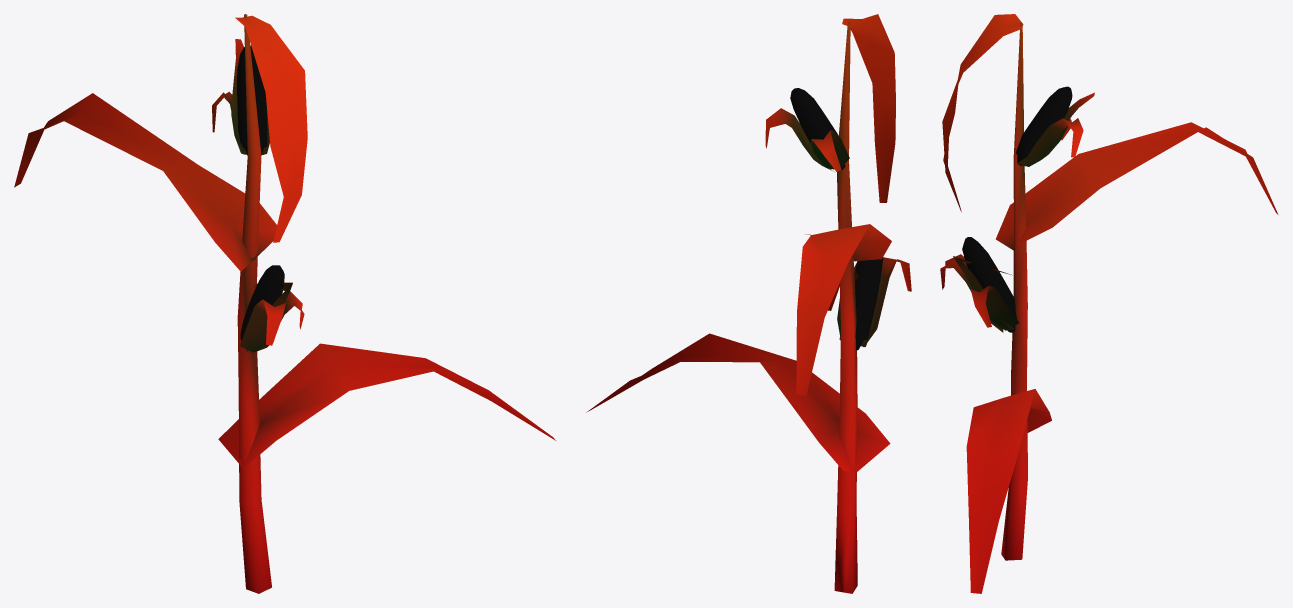
Rendered from SM_CornPlant_12.fbx.
3 renders of one model, left to right at view 1: azimuth 30°, elevation 25°; view 2: azimuth 150°, elevation 25°; view 3: azimuth 270°, elevation 25°, orthographic. The views are drawn at different scales.
Parts seen in each view (by area): view 1: SM_CornPlant_12; view 2: SM_CornPlant_12; view 3: SM_CornPlant_12.
Boxes of the visible parts, box(x1,y1,x2,y2) form: SM_CornPlant_12: box(14, 14, 555, 593); SM_CornPlant_12: box(586, 14, 911, 593); SM_CornPlant_12: box(940, 14, 1278, 593).
Size of the model in its own units: 0.9715 by 1.4 by 0.8043.
